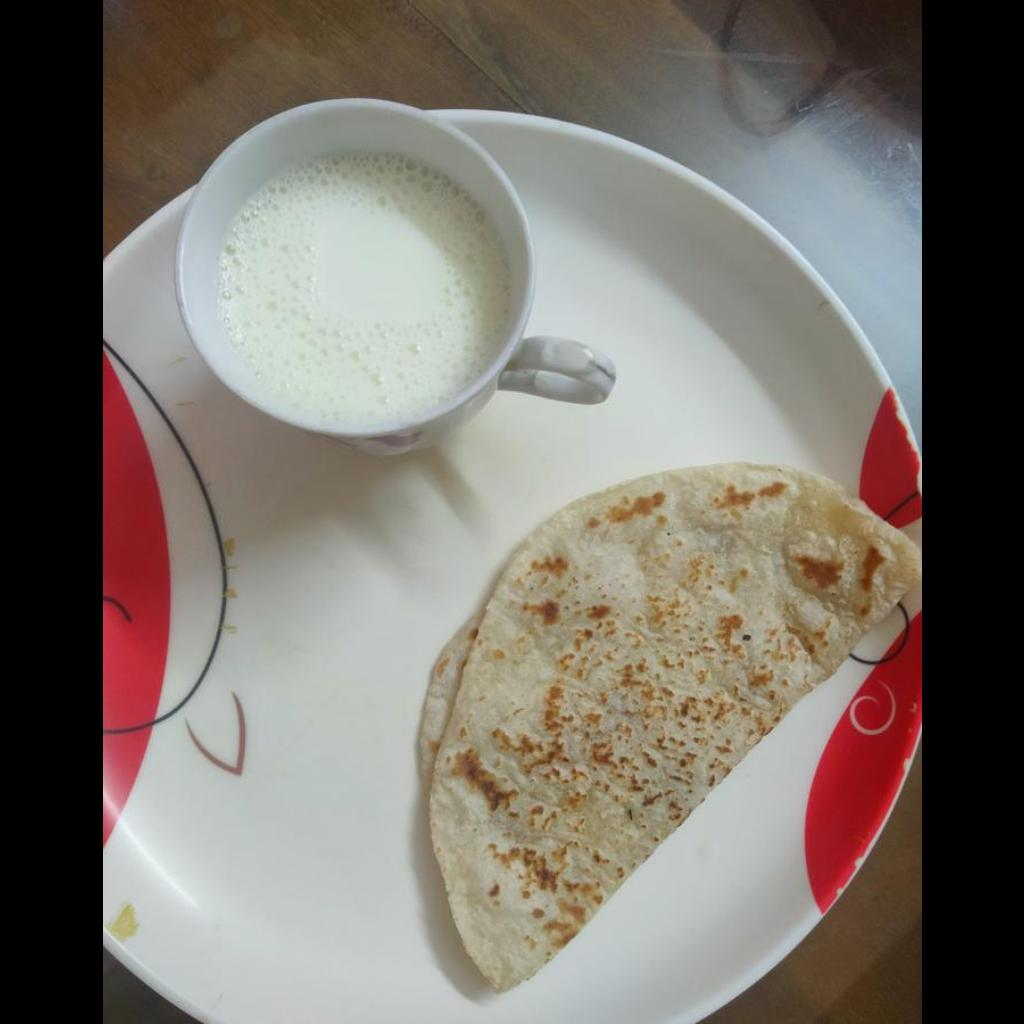milk: (223, 152, 509, 429)
ruti: (417, 465, 920, 994)
